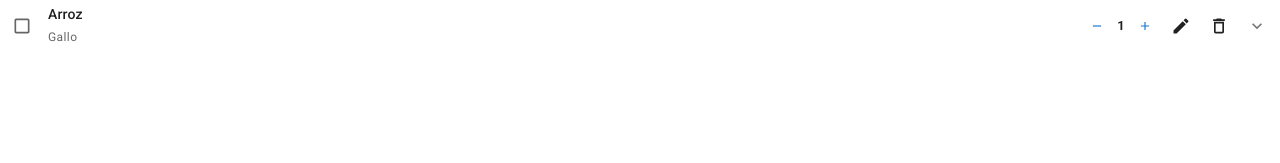
ShoppingItem › expands to show details
Click the button named "expand" at [1257, 26], box [1242, 11, 1272, 41]
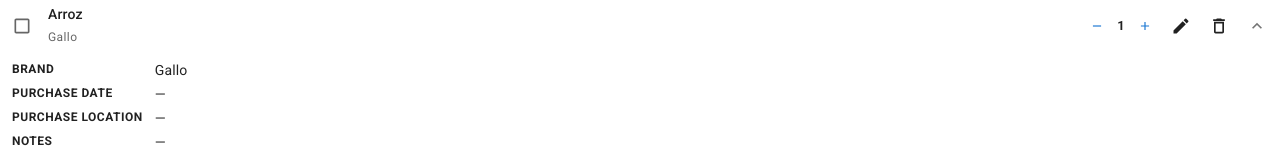
Result: the text "Brand" is shown at [12, 62, 54, 76]
